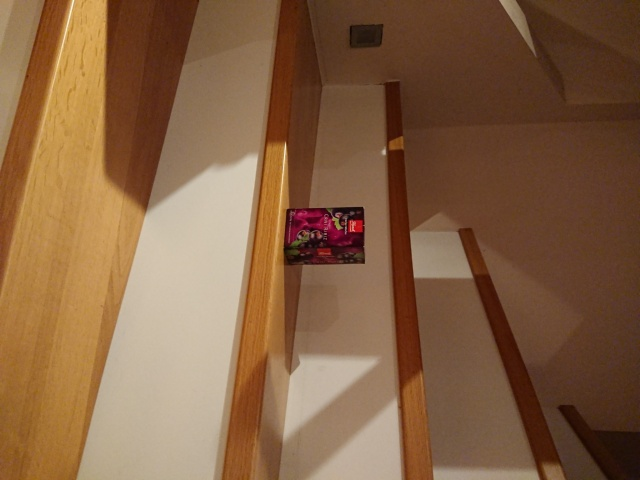Franck Black Currant Tea 60g: (281, 204, 368, 267)
